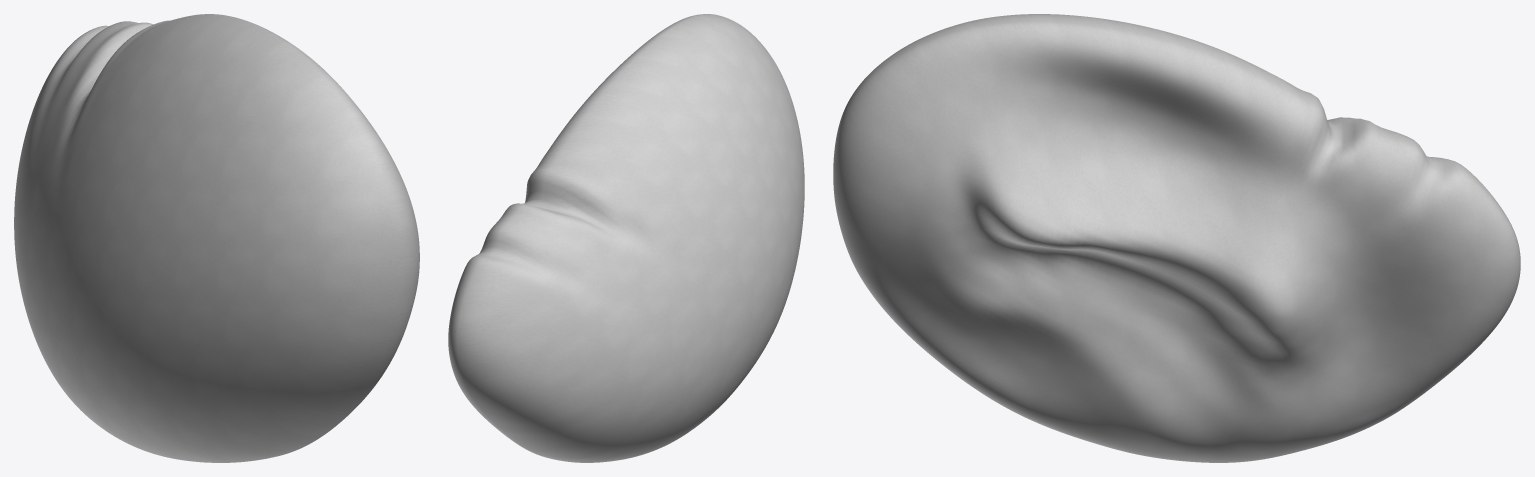
File: previous.glb
The picture shows the model from 3 angles, left to right: view 1: azimuth 30°, elevation 25°; view 2: azimuth 150°, elevation 25°; view 3: azimuth 270°, elevation 25°; orthographic projection. The views are drawn at different scales.
Parts seen in each view (by area): view 1: SPLEEN; view 2: SPLEEN; view 3: SPLEEN.
Part boxes in pixels (x1,y1,x2,y2): SPLEEN: (14, 14, 419, 462); SPLEEN: (448, 14, 804, 462); SPLEEN: (833, 14, 1520, 462).
Size of the model in its own units: 0.0481 by 0.0785 by 0.1097.
1 material, 1 textured.
